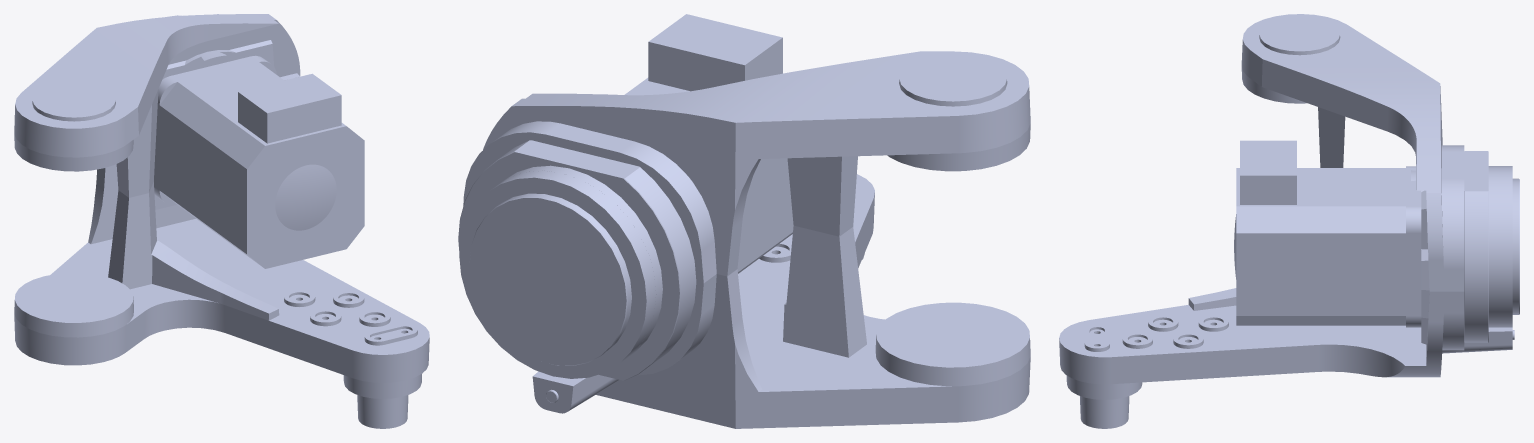
The model's file is IRB460_TILT.glb.
3 renders of one model, left to right at view 1: azimuth 30°, elevation 25°; view 2: azimuth 150°, elevation 25°; view 3: azimuth 270°, elevation 25°, orthographic. The views are drawn at different scales.
Visible parts, largest first — view 1: IRB460_TILT; view 2: IRB460_TILT; view 3: IRB460_TILT.
Part boxes in pixels (<box>): IRB460_TILT: <box>14,14,429,428</box>; IRB460_TILT: <box>458,14,1030,428</box>; IRB460_TILT: <box>1059,14,1519,428</box>.
Size of the model in its own units: 0.3825 by 0.312 by 0.4553.
